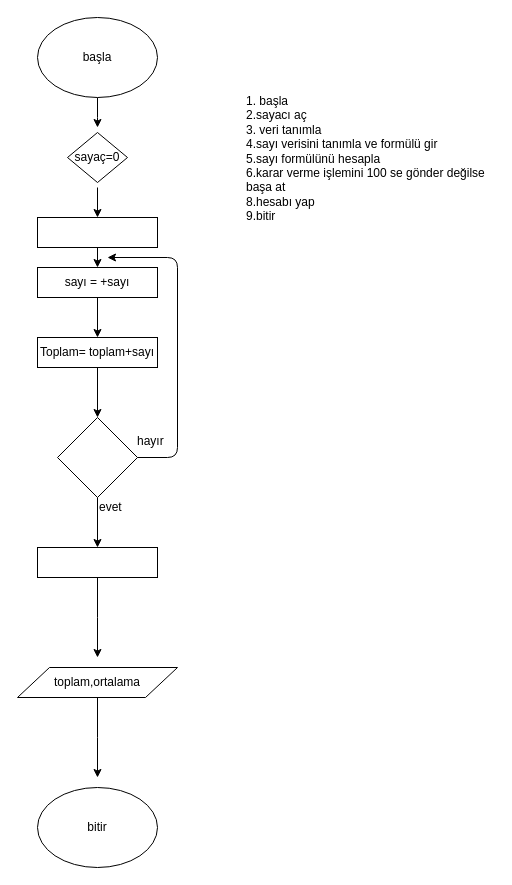
Image size: 512x885. Some labels were removed from this diagram. Here are the shapes that lost their labels. From the top down, the centre of each, then its label:
At (97,232): "taplam=0".
At (97,457): "sayı = 100".
At (97,562): "Örtalama=toplam/sayı".
